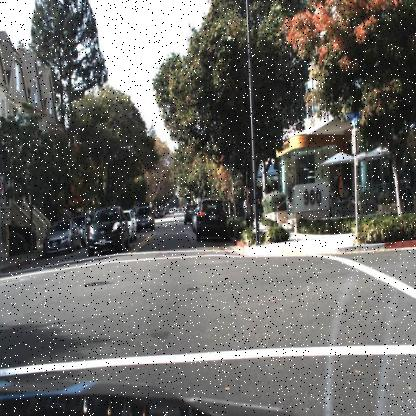car: (86, 204, 126, 252), (194, 194, 227, 243), (41, 218, 80, 252), (132, 201, 158, 235), (75, 210, 89, 250), (137, 204, 152, 236), (126, 208, 138, 244), (182, 200, 194, 227), (183, 202, 195, 227)
